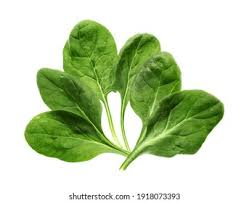spinach: (31, 26, 209, 157)
